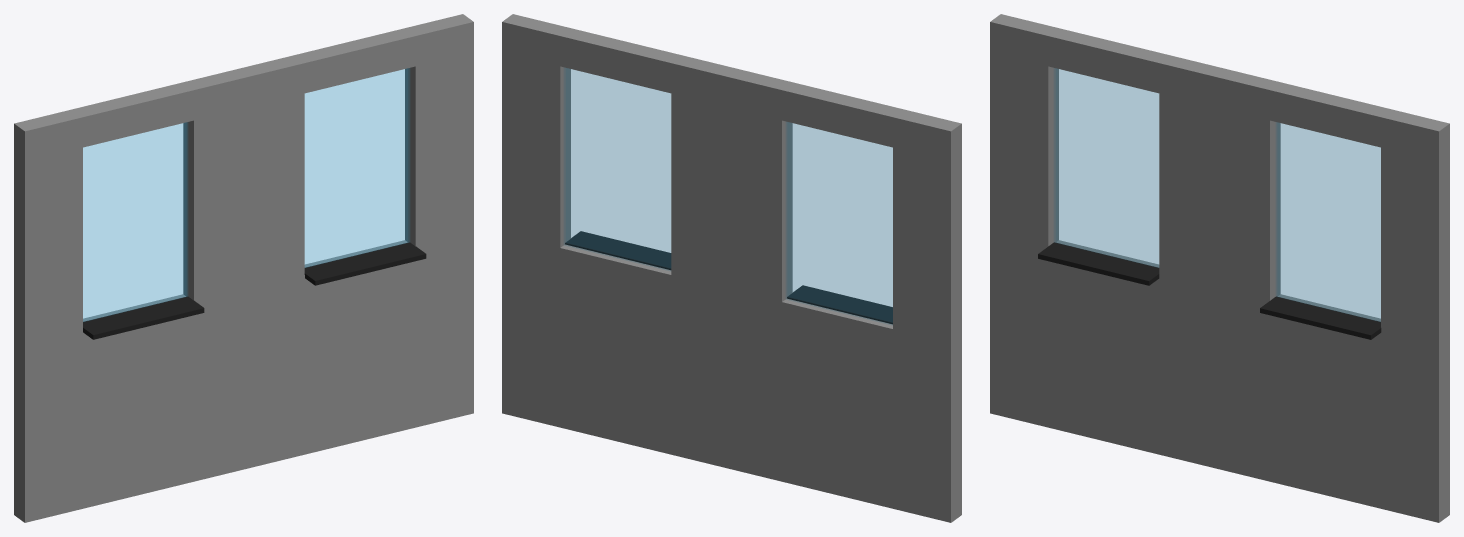
Rendered from SM_wall_stationshop_07.fbx.
The picture shows the model from 3 angles, left to right: view 1: azimuth 30°, elevation 25°; view 2: azimuth 150°, elevation 25°; view 3: azimuth 330°, elevation 25°; orthographic projection.
Visible parts, largest first — view 1: wall_stationshop_07; view 2: wall_stationshop_07; view 3: wall_stationshop_07.
Boxes of the visible parts, x1,y1,x2,y2 form: wall_stationshop_07: (14,14,473,522); wall_stationshop_07: (502,14,961,522); wall_stationshop_07: (990,14,1449,522).
Size of the model in its own units: 300 by 250 by 24.32.
